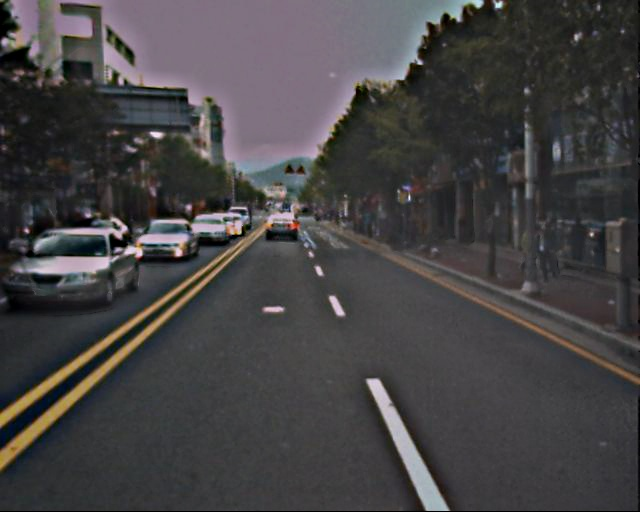person: (530, 214, 558, 283), (540, 213, 565, 273), (567, 217, 588, 263)
